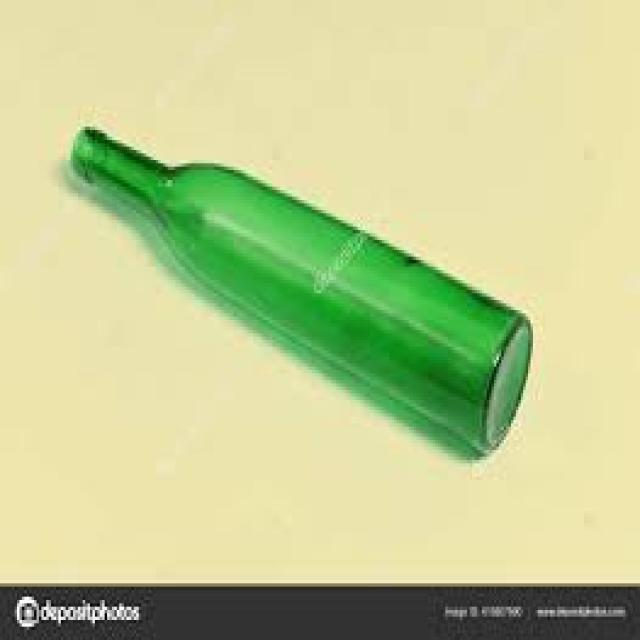glass: (66, 120, 531, 450)
